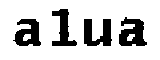1: (49, 5, 77, 49)
a: (117, 16, 152, 49), (9, 17, 44, 49)
u: (80, 15, 114, 51)
